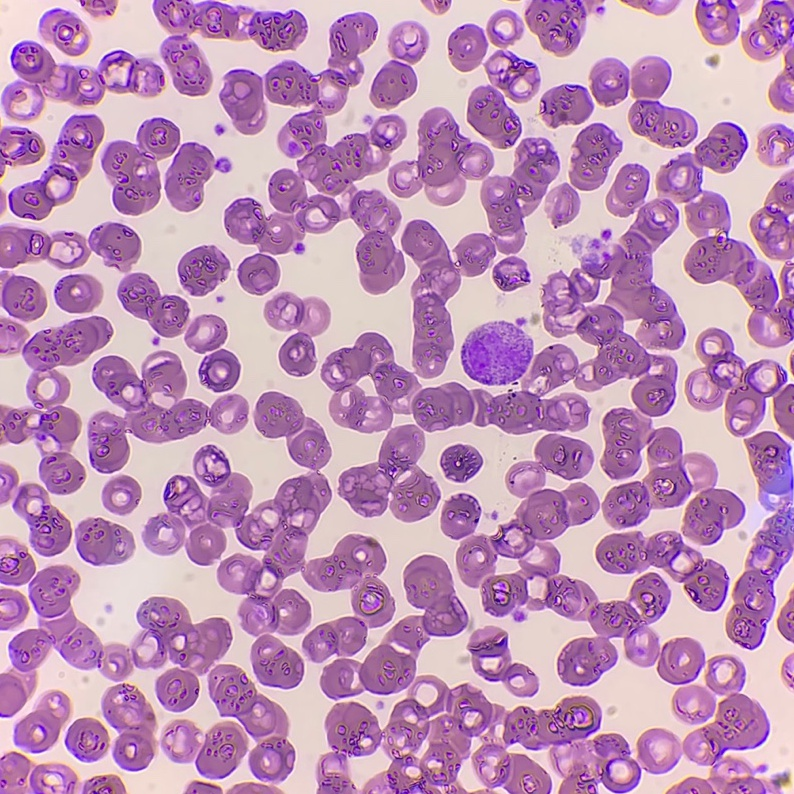RBC: (225, 15, 405, 293), (456, 483, 703, 684), (145, 445, 330, 634), (532, 200, 683, 415), (0, 597, 231, 715), (0, 317, 111, 494), (89, 351, 247, 472), (669, 656, 790, 793), (358, 555, 467, 693), (402, 220, 494, 377), (155, 0, 305, 95), (385, 676, 502, 793), (602, 409, 714, 526), (504, 696, 639, 793), (4, 44, 163, 120), (685, 237, 793, 346), (686, 329, 793, 436), (596, 531, 726, 610), (388, 108, 492, 204), (209, 665, 294, 779), (10, 115, 103, 219), (339, 425, 439, 521), (321, 333, 417, 432), (726, 515, 793, 647), (412, 383, 587, 433), (481, 139, 558, 252), (305, 535, 394, 626), (102, 118, 179, 214), (657, 123, 743, 201), (254, 392, 330, 468), (629, 59, 694, 146), (265, 293, 329, 375), (118, 273, 188, 336), (470, 630, 537, 695), (103, 684, 155, 767), (525, 0, 598, 55), (15, 483, 70, 555), (474, 744, 550, 793), (0, 227, 87, 268), (751, 176, 793, 258), (570, 124, 620, 190), (166, 143, 214, 210), (684, 489, 742, 544), (467, 87, 520, 147), (17, 692, 69, 749), (743, 0, 793, 58), (220, 70, 265, 134), (303, 617, 366, 661), (529, 434, 591, 478), (251, 635, 303, 687), (326, 703, 380, 753), (197, 723, 246, 775), (77, 518, 133, 563), (179, 246, 229, 295), (486, 53, 537, 101), (31, 566, 78, 617), (90, 223, 140, 270), (607, 164, 647, 216), (371, 61, 416, 107), (747, 432, 785, 485), (1, 276, 46, 320), (42, 12, 88, 55), (543, 86, 591, 126), (0, 753, 46, 793), (0, 129, 43, 171), (156, 669, 198, 710), (696, 0, 735, 44), (57, 274, 101, 312), (441, 494, 479, 538), (238, 254, 279, 294), (199, 350, 239, 391), (448, 27, 486, 70), (591, 61, 628, 105), (638, 729, 676, 771), (687, 195, 726, 235), (68, 718, 107, 758), (769, 49, 793, 111), (186, 315, 226, 352), (389, 24, 427, 62), (441, 445, 481, 481), (673, 687, 714, 722), (163, 720, 197, 760), (104, 476, 140, 513), (0, 546, 34, 584), (758, 127, 792, 164), (321, 659, 352, 696), (0, 589, 27, 629), (487, 13, 519, 46), (493, 258, 526, 290), (552, 185, 577, 224), (83, 775, 124, 793), (778, 599, 793, 640), (0, 466, 17, 502), (318, 776, 351, 793), (81, 0, 116, 14), (229, 783, 275, 793), (2, 321, 23, 339), (187, 782, 221, 793), (628, 0, 652, 9), (434, 0, 450, 10), (472, 329, 483, 339), (0, 193, 4, 205)
